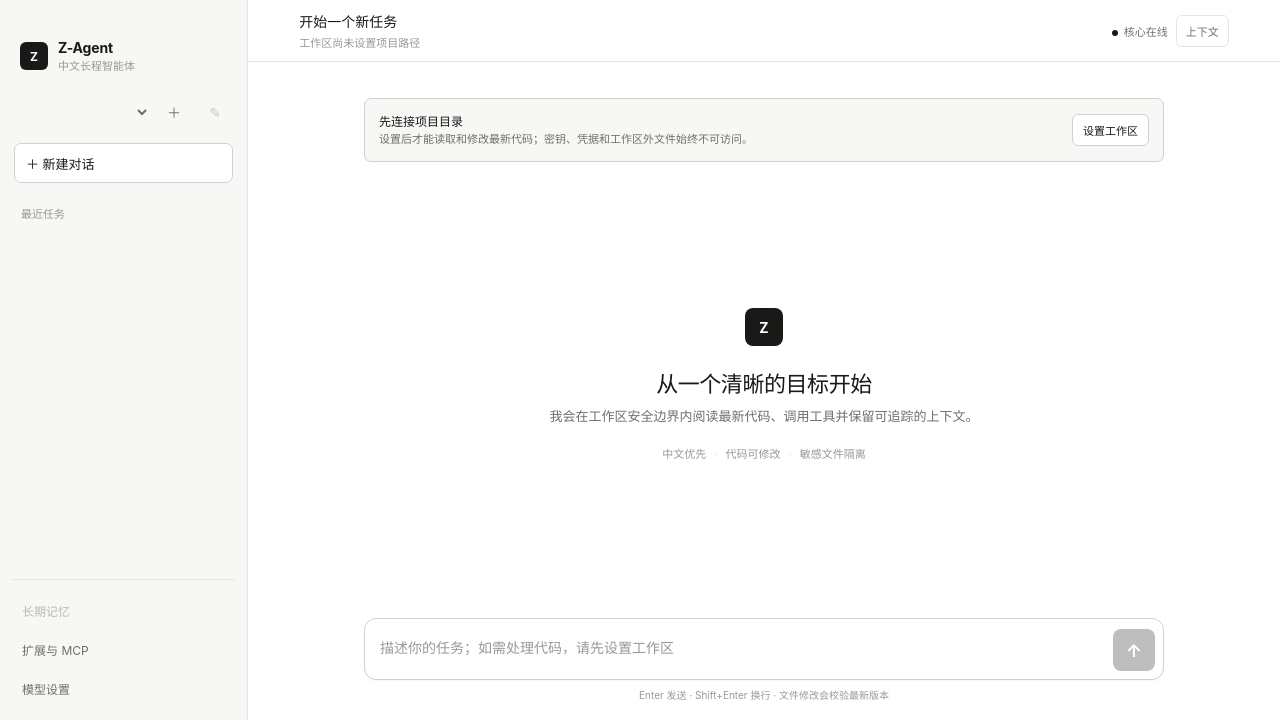
Test: Z-Agent desktop UI › restores the draft and shows a useful error when session creation fails
In the text box named "任务输入": (742, 649) [380,627,1103,671], type "请检查代码"
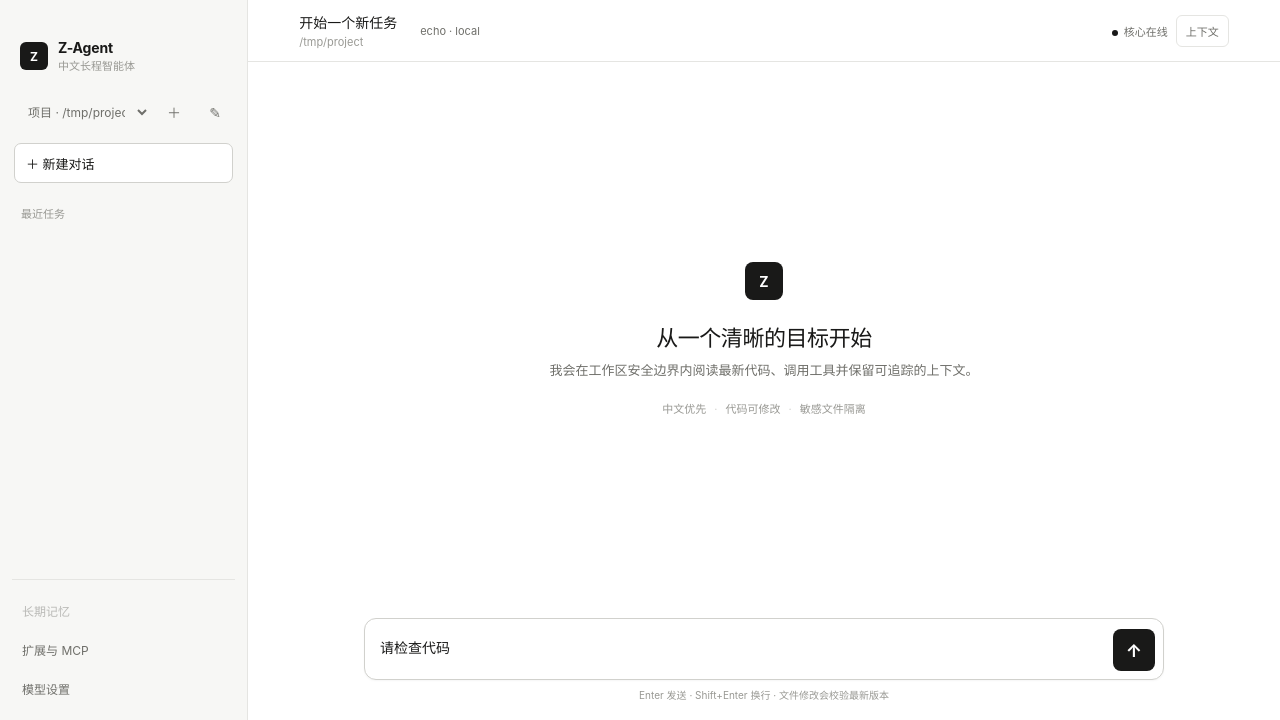
Press Enter in the text box named "任务输入", box [380,627,1103,671]
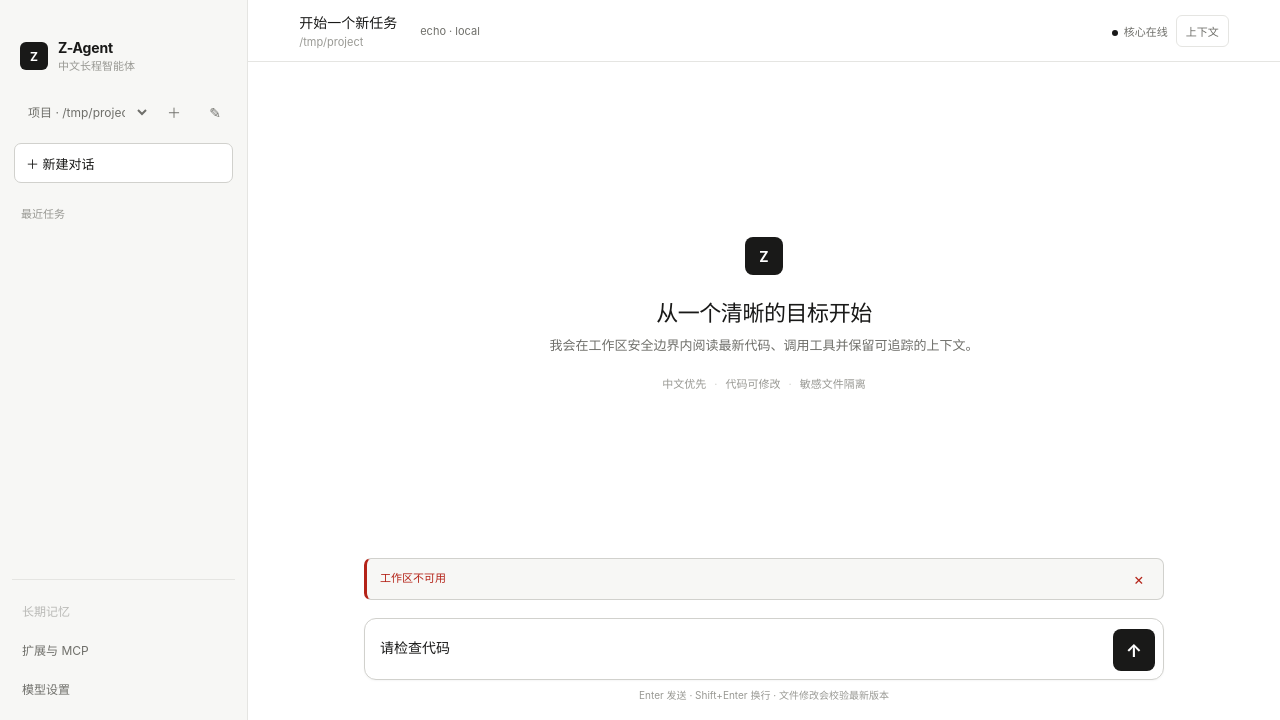
Expected: the button named "发送消息" is enabled, [1113,629,1155,671]
Expected: the message shows "工作区不可用", [380,571,446,585]
